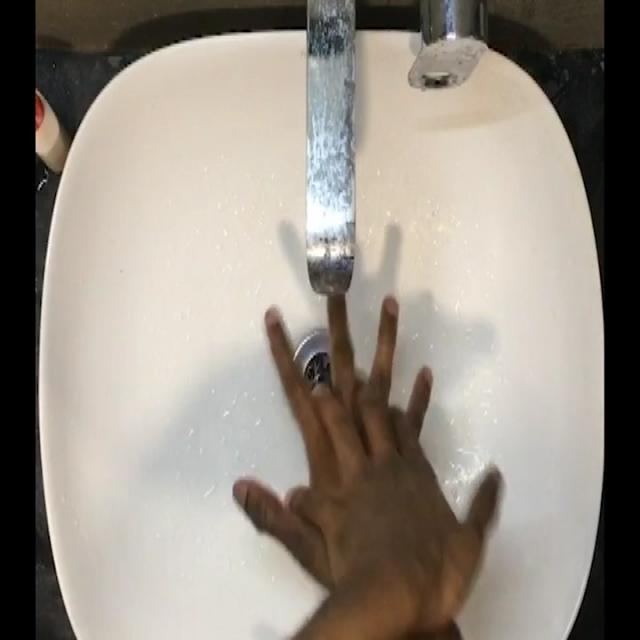step_2: (227, 268, 484, 607)
